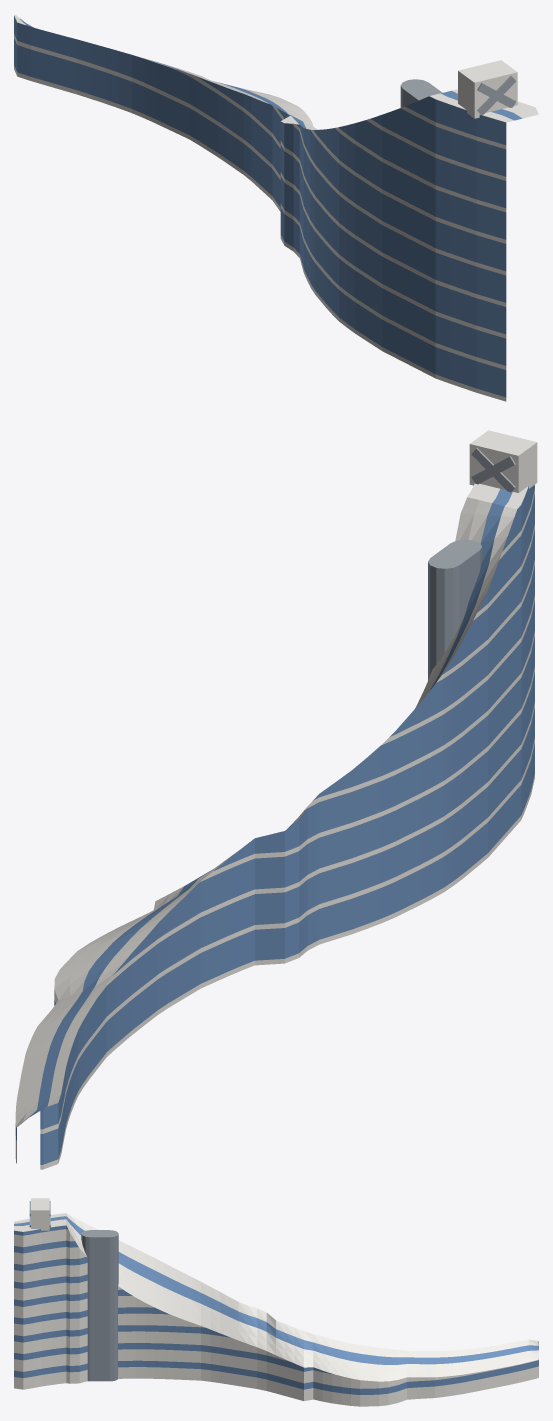
Rendered from dubai-jumeirah-beach-hotel.glb.
3 renders of one model, top to bottom at view 1: azimuth 30°, elevation 25°; view 2: azimuth 150°, elevation 25°; view 3: azimuth 270°, elevation 25°, orthographic. The views are drawn at different scales.
Visible parts, largest first — view 1: Jumeirah Beach Hotel; view 2: Jumeirah Beach Hotel; view 3: Jumeirah Beach Hotel.
Part boxes in pixels (x1,y1,x2,y2): Jumeirah Beach Hotel: (14, 14, 538, 401); Jumeirah Beach Hotel: (15, 430, 537, 1169); Jumeirah Beach Hotel: (14, 1198, 538, 1406).
Size of the model in its own units: 49.65 by 104 by 280.
